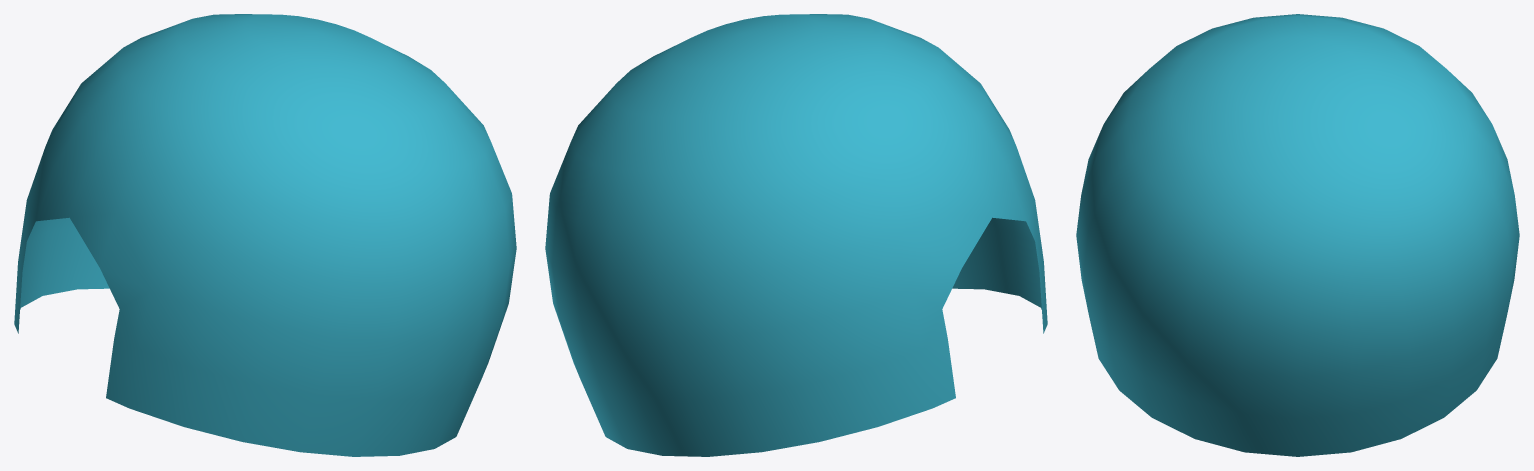
Rendered from S5_BattleShip_Windows_01.fbx.
3 renders of one model, left to right at view 1: azimuth 30°, elevation 25°; view 2: azimuth 150°, elevation 25°; view 3: azimuth 270°, elevation 25°, orthographic. The views are drawn at different scales.
Visible parts, largest first — view 1: S5_BattleShip_Windows_01; view 2: S5_BattleShip_Windows_01; view 3: S5_BattleShip_Windows_01.
Part boxes in pixels (x1,y1,x2,y2): S5_BattleShip_Windows_01: [14, 14, 516, 456]; S5_BattleShip_Windows_01: [545, 14, 1047, 456]; S5_BattleShip_Windows_01: [1076, 14, 1519, 456].
Bounding box in the file's own units: 1437 × 1248 × 1462.
